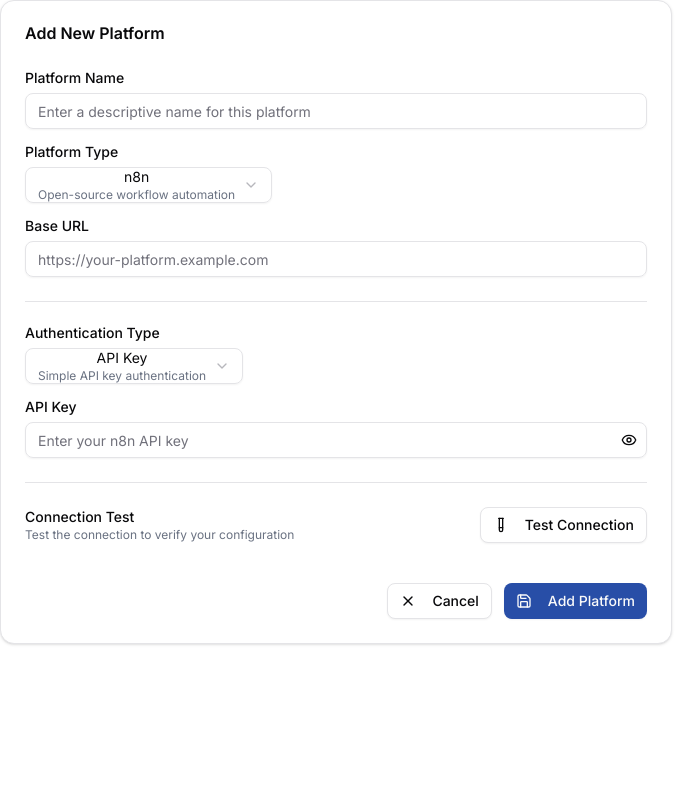
Test: PlatformForm › handles connection test success
Type "Test Platform" into the field labelled "Platform Name".
click(336, 111); type("Test Platform")  # box [25,93,647,129]
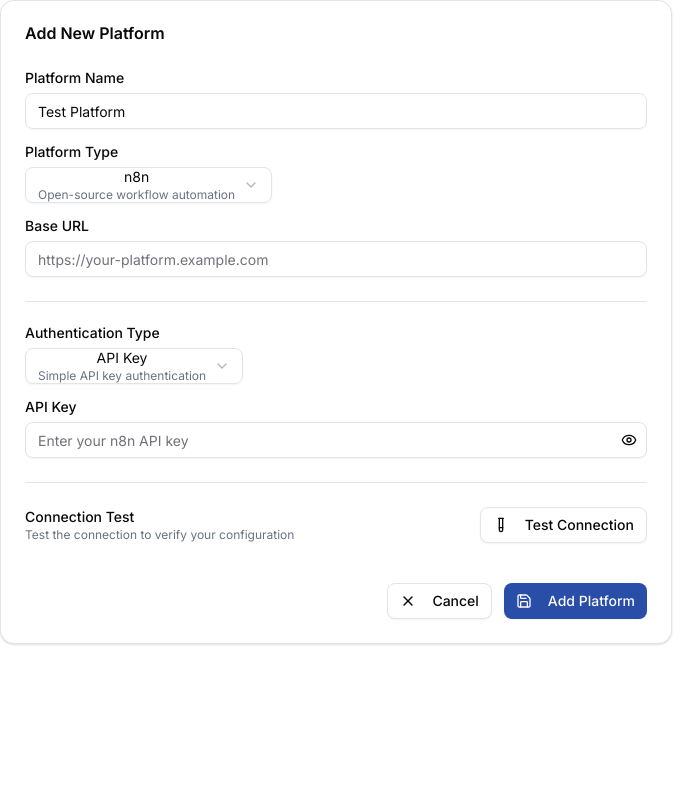
Type "https://test.example.com" into the field labelled "Base URL".
click(336, 259); type("https://test.example.com")  # box [25,241,647,277]
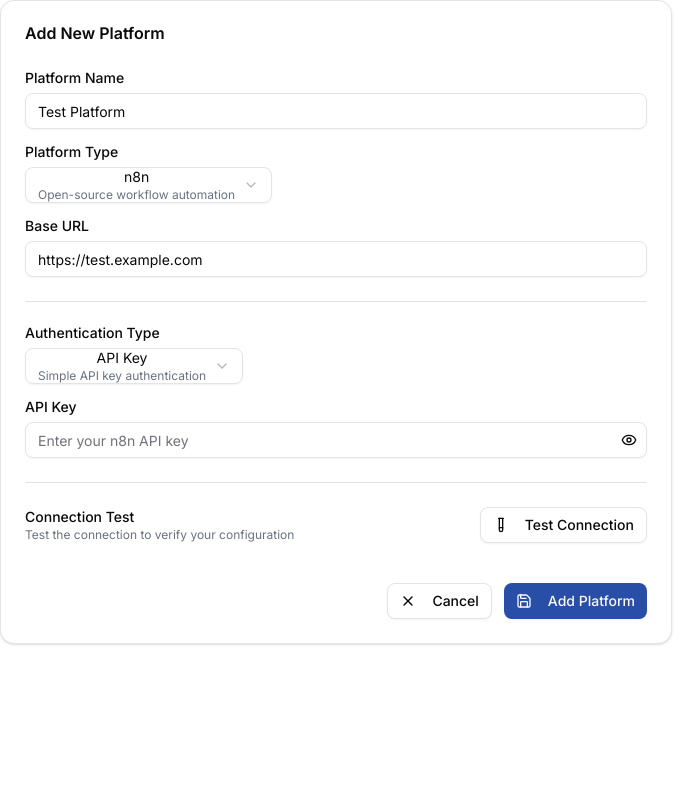
Type "test-api-key" into the password field labelled "API Key".
click(336, 440); type("test-api-key")  # box [25,422,647,458]
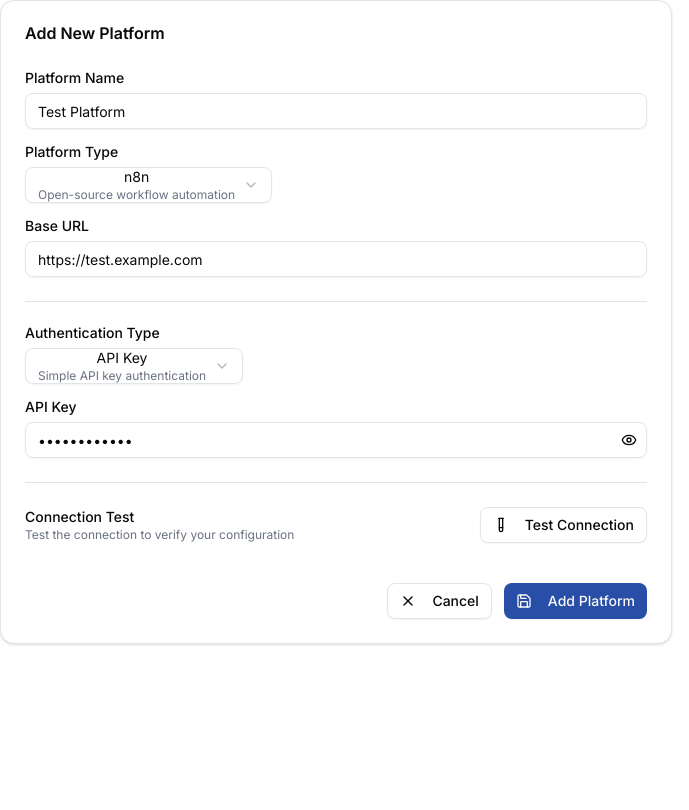
Note: Click test connection
Click the button "Test Connection".
click(563, 525)  # box [480,507,647,543]
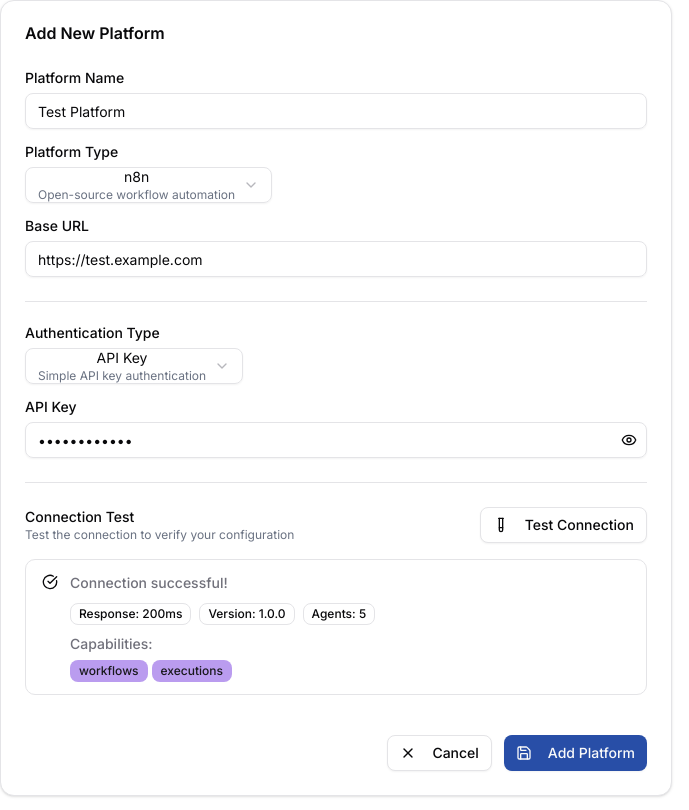
Expected: the text "Connection successful!" is shown, [70,574,228,591]
Expected: the text "Response: 200ms" is shown, [70,603,191,625]
Expected: the text "Version: 1.0.0" is shown, [199,603,294,625]
